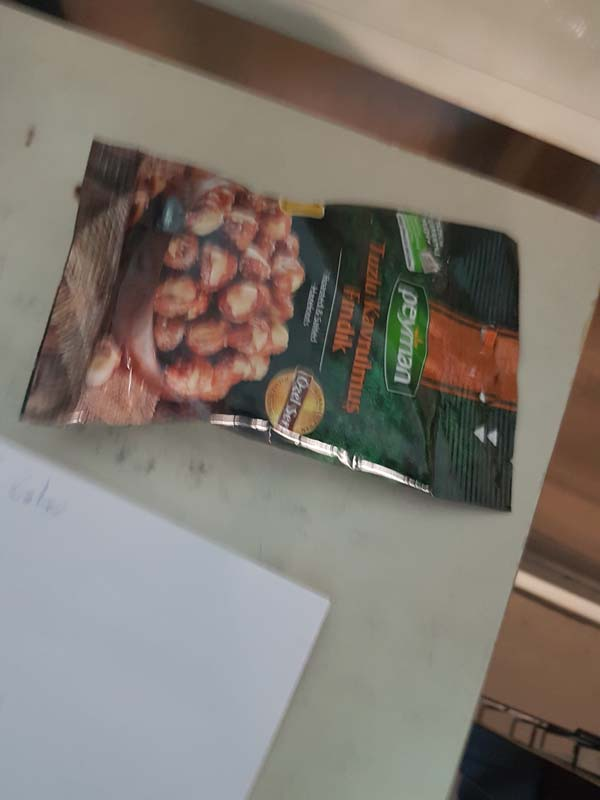peysankavrulmusfindik: (21, 124, 529, 508)
